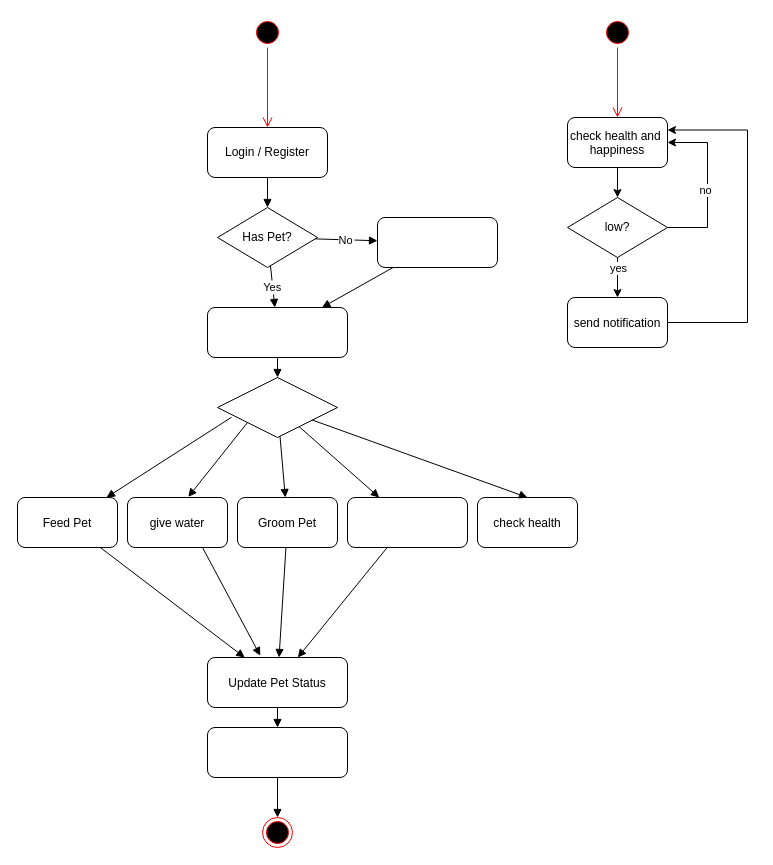
This 773x865 diagram has some shape labels left out. The shapes that lost their labels are listed below. From the top down, each one's centre as x and y in pixels, then its label:
(x=437, y=242): Adopt Pet
(x=277, y=332): Choose Care Action
(x=277, y=407): Action Type
(x=407, y=522): Play with Pet
(x=277, y=752): Save to Database
